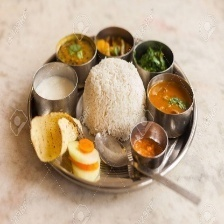roti: (27, 105, 86, 167)
